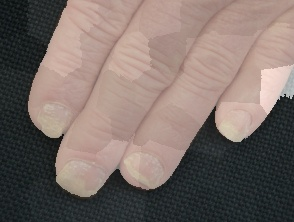Nail_psoriasis: (53, 154, 110, 206), (29, 94, 80, 146), (116, 145, 170, 192), (216, 103, 257, 145)
